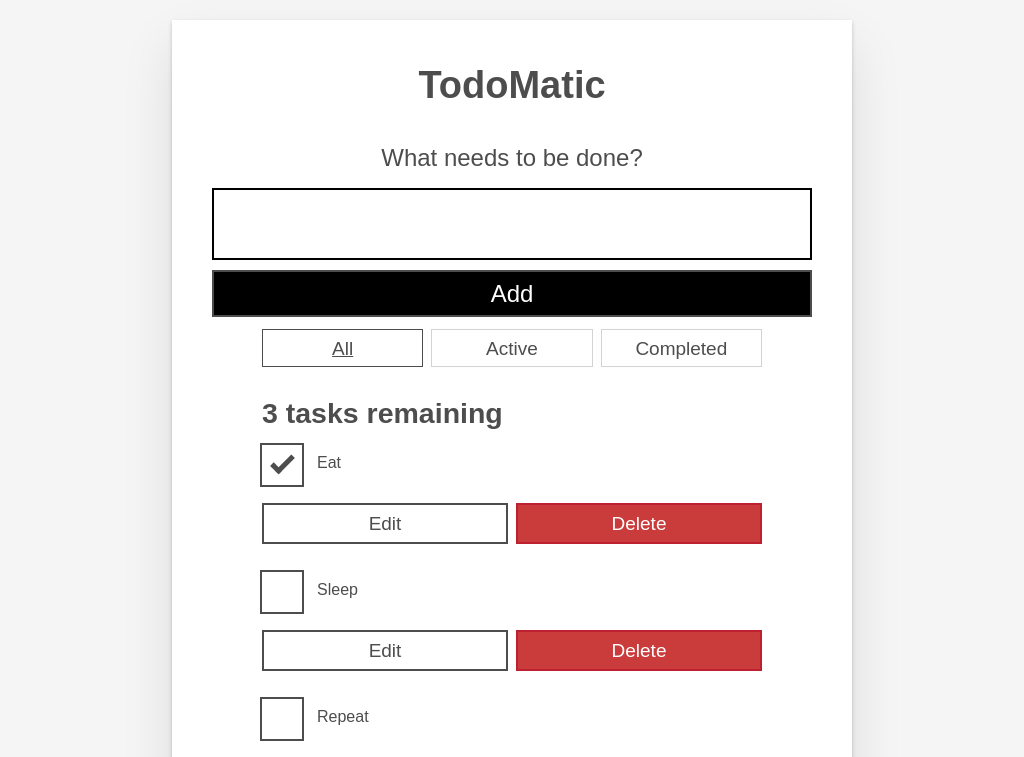
it: example to-do app › can edit tasks
Check: the list item "Eat Edit Delete" is shown, box [262,445,762,544]
Click the 1st button "Edit".
click(385, 524)  # box [262,503,508,544]
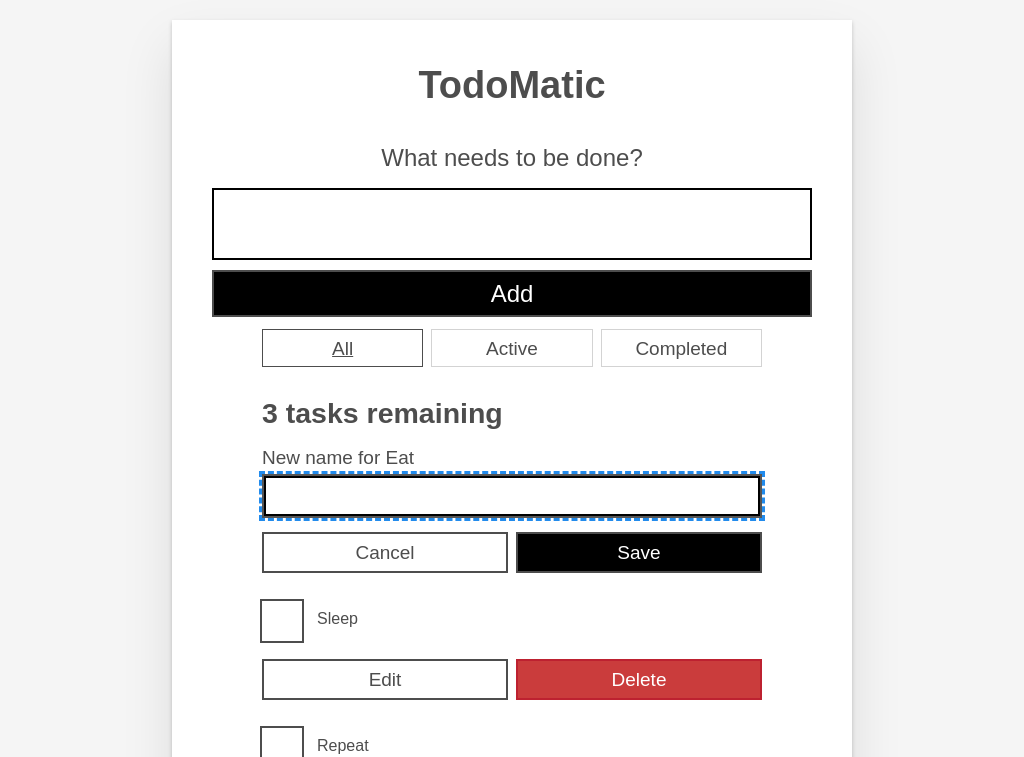
Type "Draw" into the field with class "todo-text".
click(512, 496); type("Draw")  # box [262,474,762,518]
Then press Enter
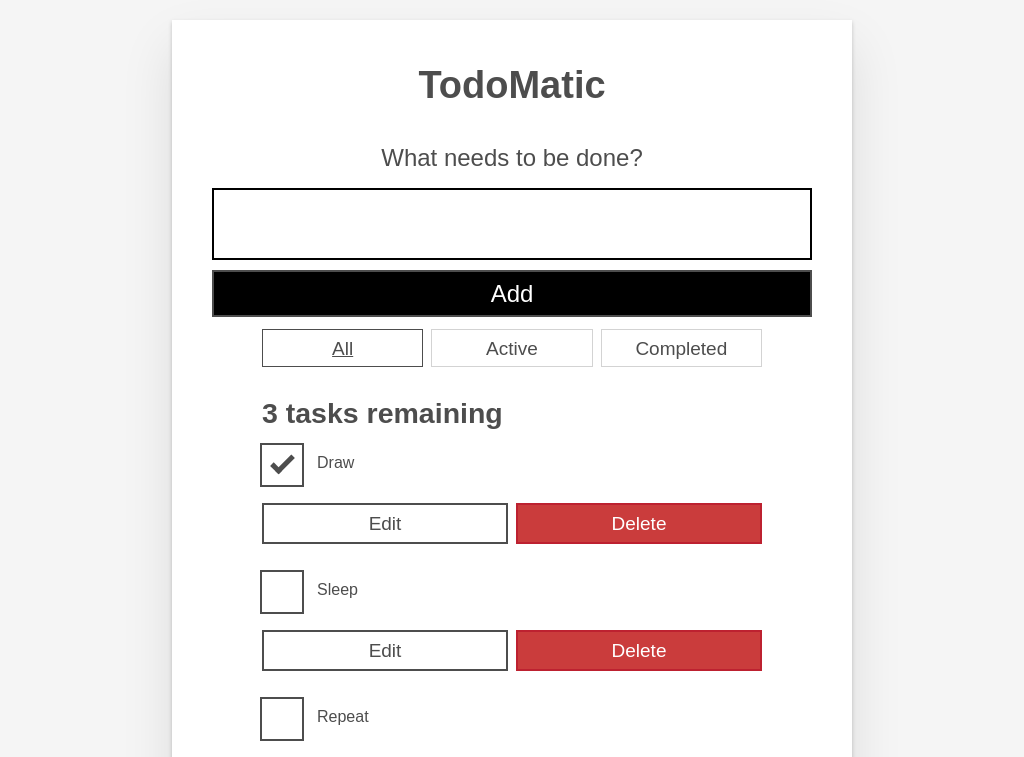
Check: the text "Eat" is gone
Check: the checkbox labelled "Draw" is shown, box [302,445,369,478]
